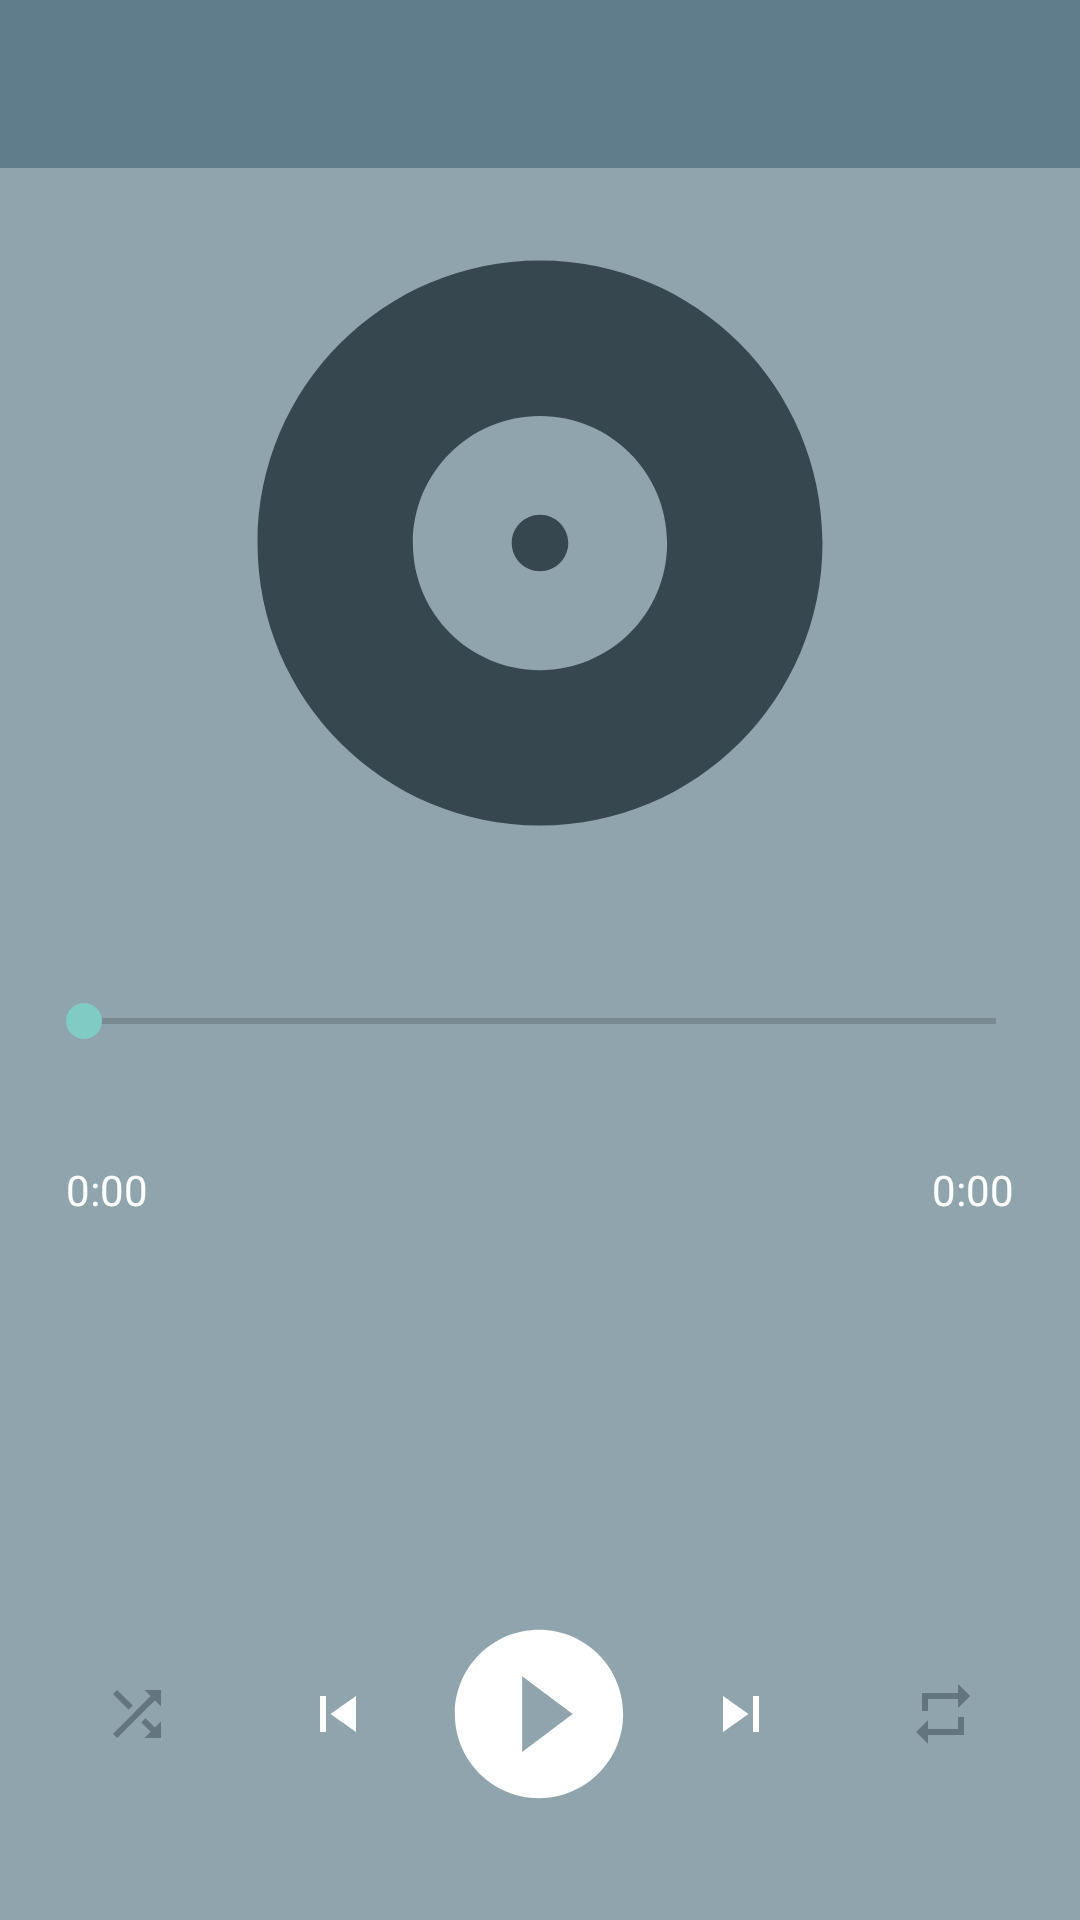

Named icons in this screenshot (1080px x 1920px) and their centers, [x,y]:
next: [741,1714]
play: [538,1714]
previous: [338,1714]
repeat: [943,1713]
shuflle: [137,1714]
